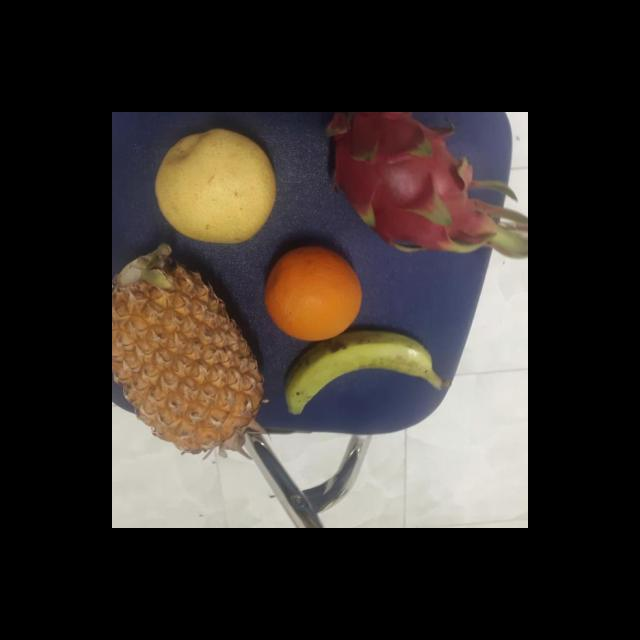banana: (275, 328, 438, 428)
orange: (259, 244, 363, 344)
pear: (150, 128, 279, 252)
pineapple: (112, 248, 262, 442)
pitaya: (316, 112, 484, 252)
